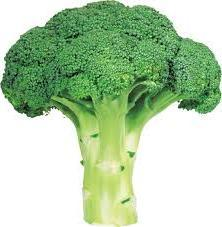broccoli: (0, 0, 221, 226)
